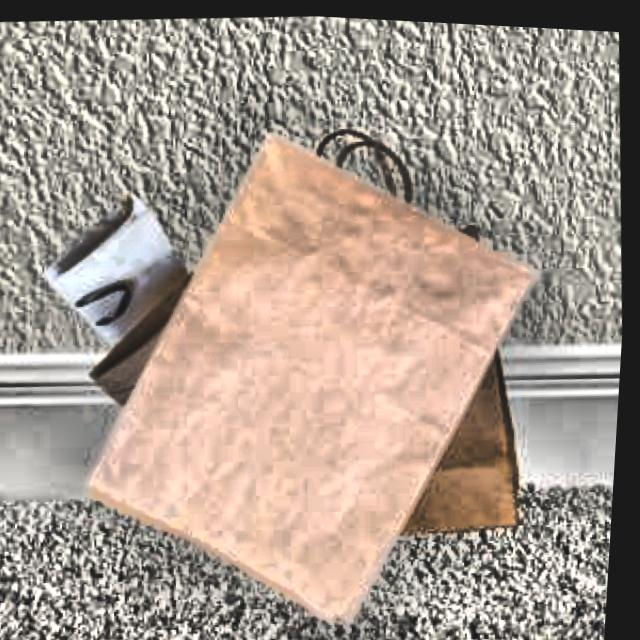Paper-bag: (46, 95, 576, 640)
